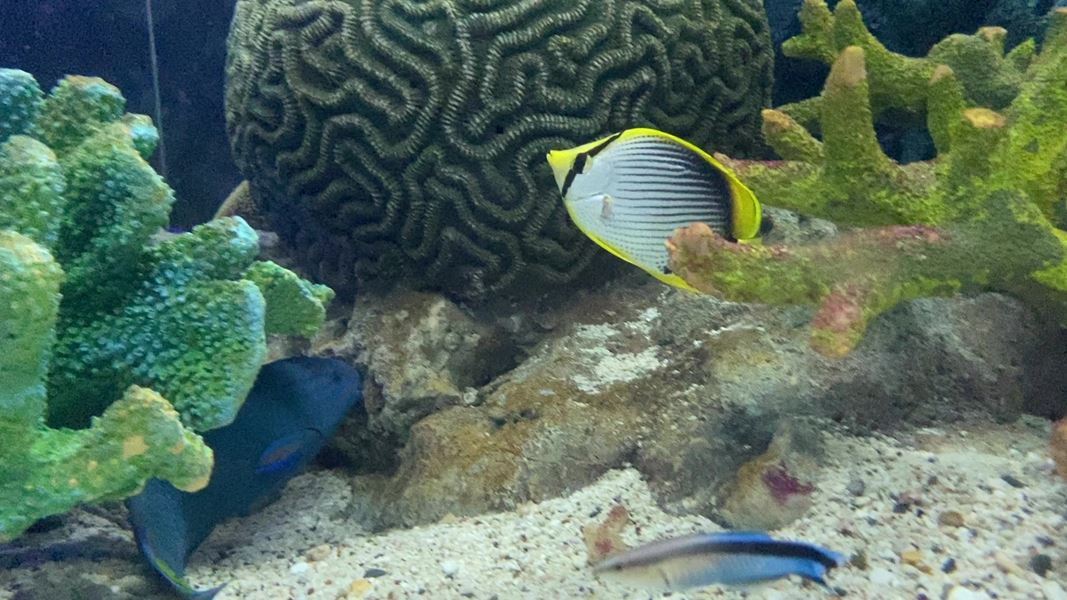Black-backed butterflyfish: (537, 119, 771, 303)
